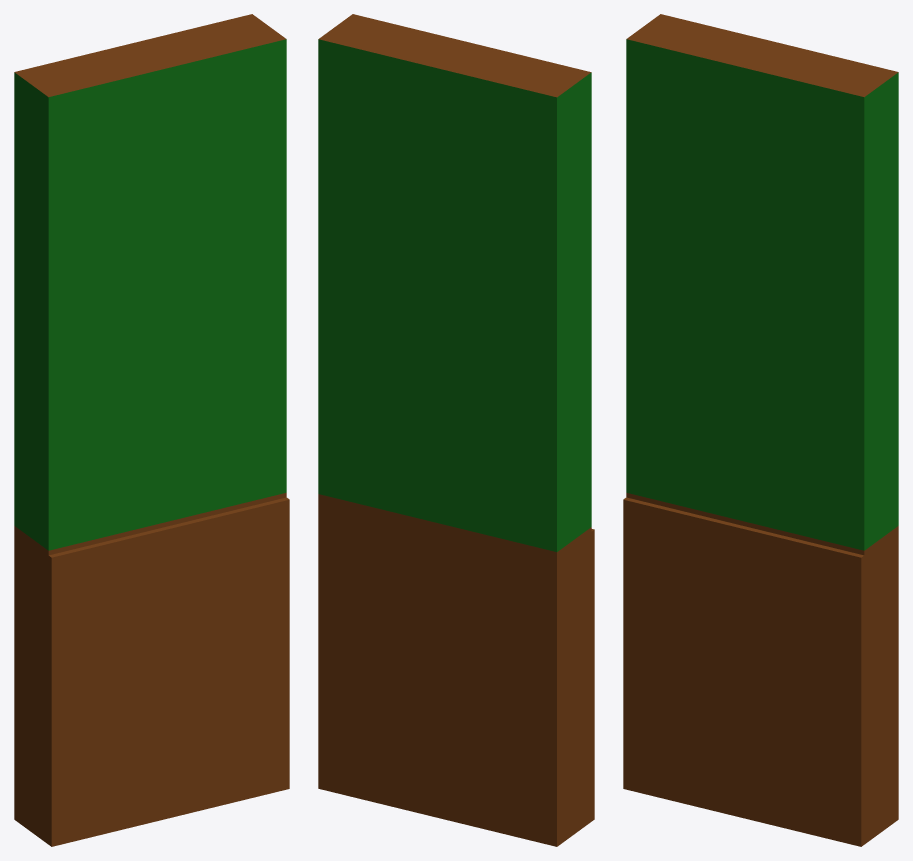
The model's file is testWall.fbx.
3 views of the same model, side by side, from view 1: azimuth 30°, elevation 25°; view 2: azimuth 150°, elevation 25°; view 3: azimuth 330°, elevation 25° (orthographic).
Parts seen in each view (by area): view 1: Cube; view 2: Cube; view 3: Cube.
Boxes of the visible parts, bbox=[...] form: Cube: bbox=[14, 14, 289, 846]; Cube: bbox=[318, 14, 594, 846]; Cube: bbox=[623, 14, 898, 846].
Bounding box in the file's own units: 100 × 300 × 27.24.
